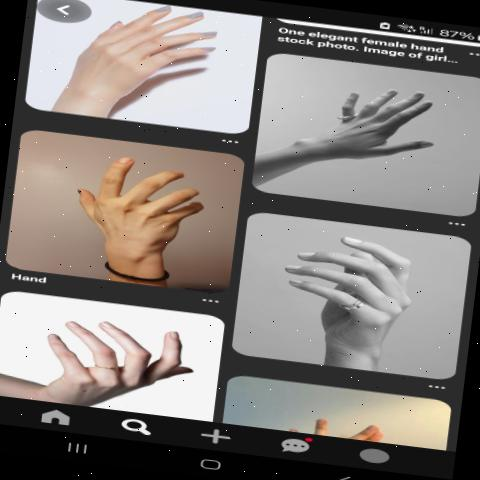hands: (260, 217, 466, 376), (30, 136, 238, 274), (278, 56, 464, 202), (21, 294, 216, 412), (73, 0, 229, 122)
